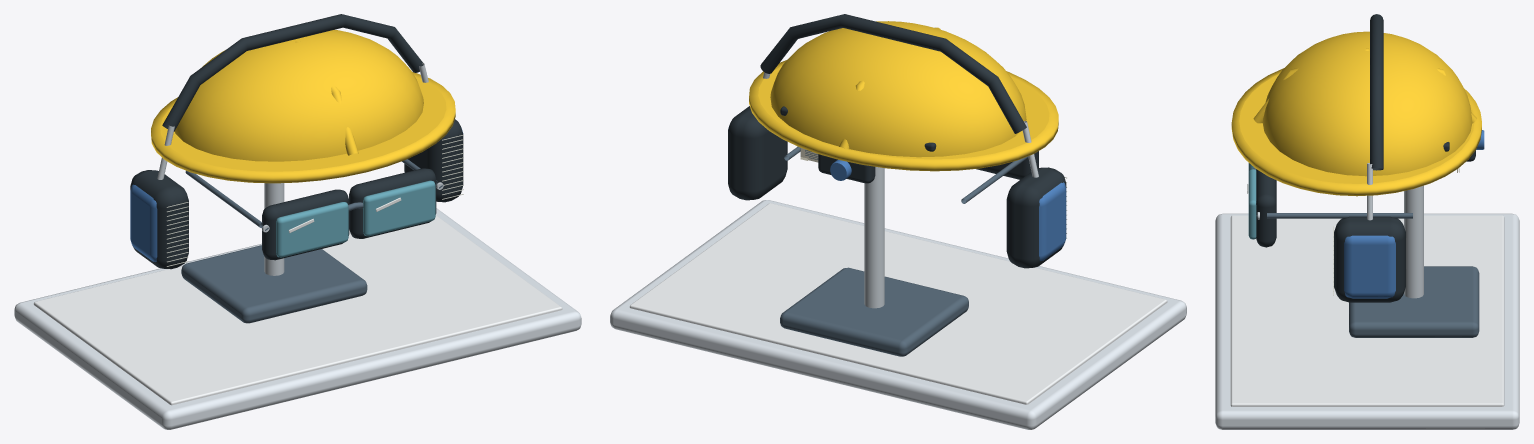
The model's file is ppe.glb.
The picture shows the model from 3 angles, left to right: view 1: azimuth 30°, elevation 25°; view 2: azimuth 150°, elevation 25°; view 3: azimuth 270°, elevation 25°; orthographic projection. The views are drawn at different scales.
Visible parts, largest first — view 1: ppe; view 2: ppe; view 3: ppe.
Boxes of the visible parts, x1=… form: ppe: x1=14, y1=14, x2=581, y2=429; ppe: x1=610, y1=14, x2=1186, y2=429; ppe: x1=1215, y1=14, x2=1519, y2=429.
Bounding box in the file's own units: 0.77 × 0.5209 × 0.49.
